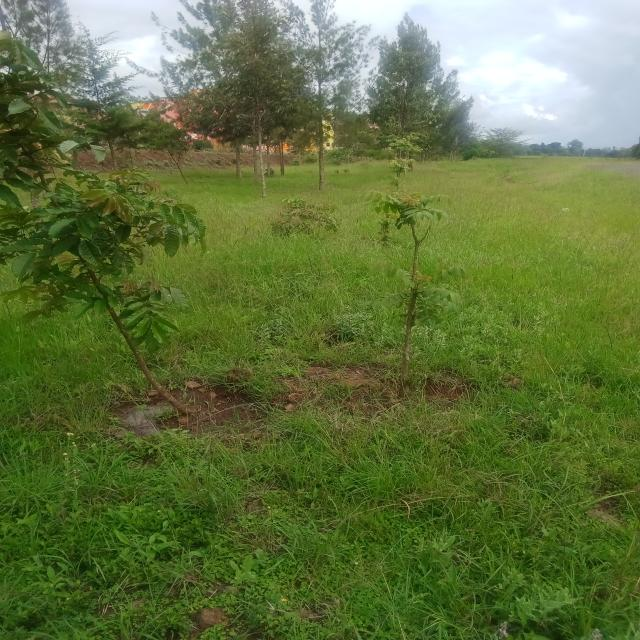Polyscias Kikuyensis: (0, 51, 229, 434), (376, 119, 480, 396)
